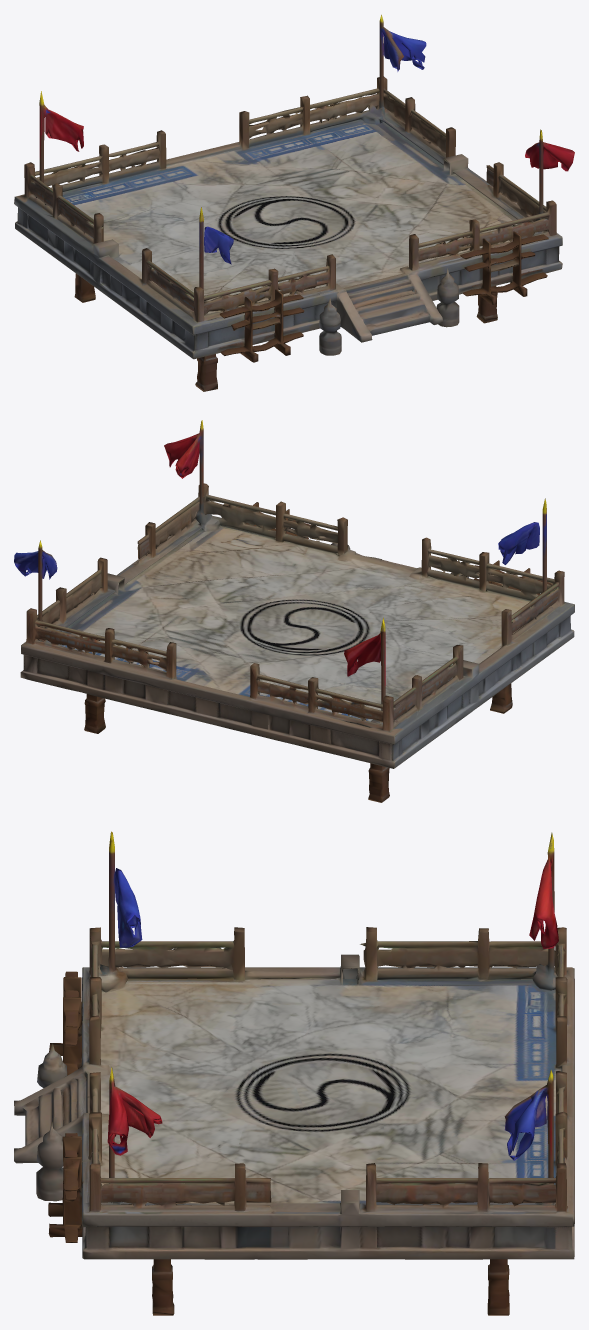
Rendered from tripo_convert_b065114f-ac7f-402c-a87d-ce57b4582708.fbx.
3 views of the same model, one above another, from view 1: azimuth 30°, elevation 25°; view 2: azimuth 150°, elevation 25°; view 3: azimuth 270°, elevation 25° (orthographic). The views are drawn at different scales.
Parts seen in each view (by area): view 1: tripo_node_b065114f; view 2: tripo_node_b065114f; view 3: tripo_node_b065114f.
Boxes of the visible parts, x1,y1,x2,y2 form: tripo_node_b065114f: (14,14,574,391); tripo_node_b065114f: (14,420,574,802); tripo_node_b065114f: (14,831,574,1315).
Bounding box in the file's own units: 0.9997 × 0.4879 × 0.898.
1 material, 1 textured.
